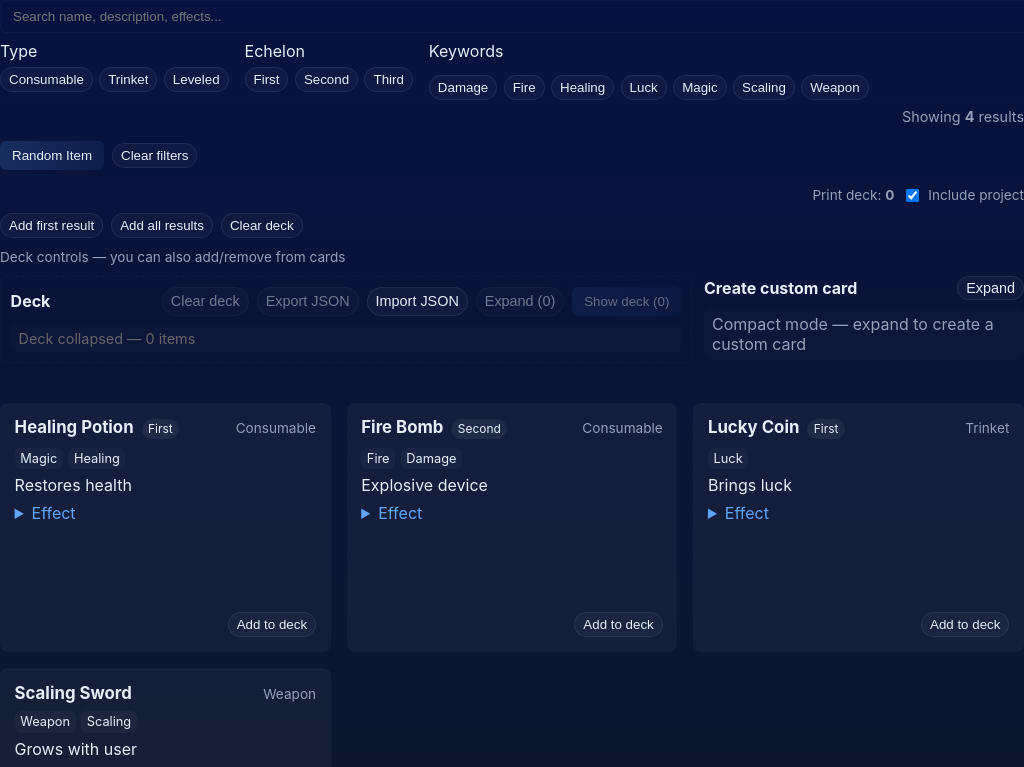
ItemList › filters items by keyword
Click the button "Magic". click: [700, 87]
box: left=673, top=75, right=727, bottom=100
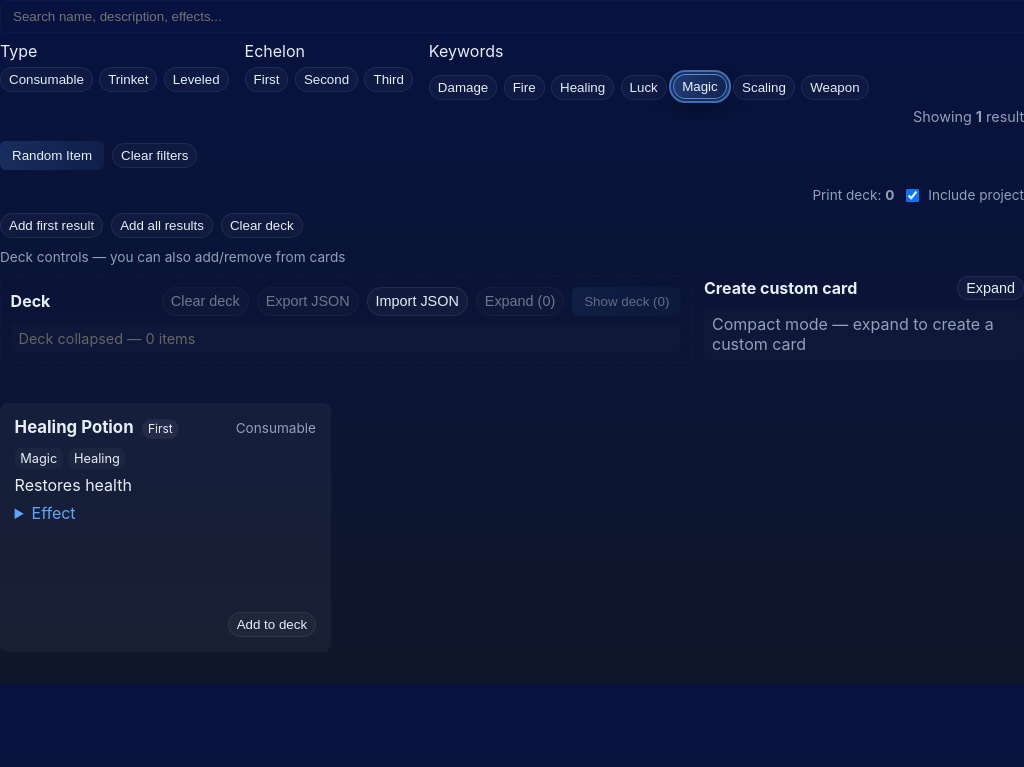
Expected: the heading "Healing Potion" is shown, left=15, top=417, right=134, bottom=437
Now the heading "Fire Bomb" is gone
